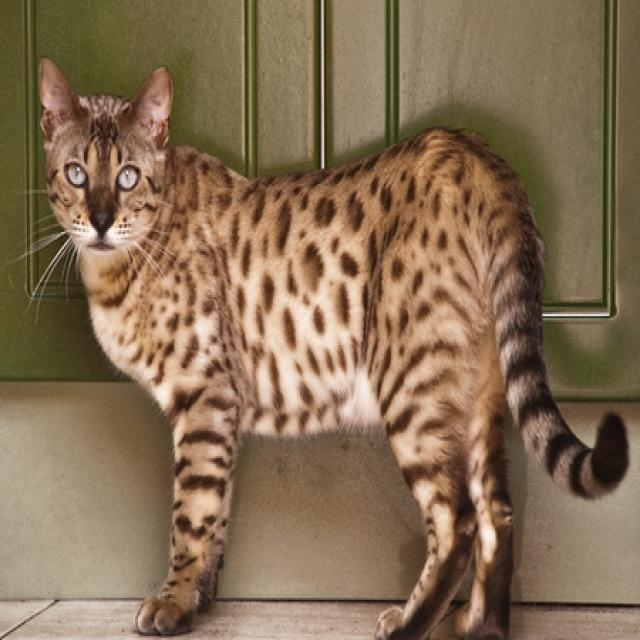Bengal: (28, 51, 635, 640)
